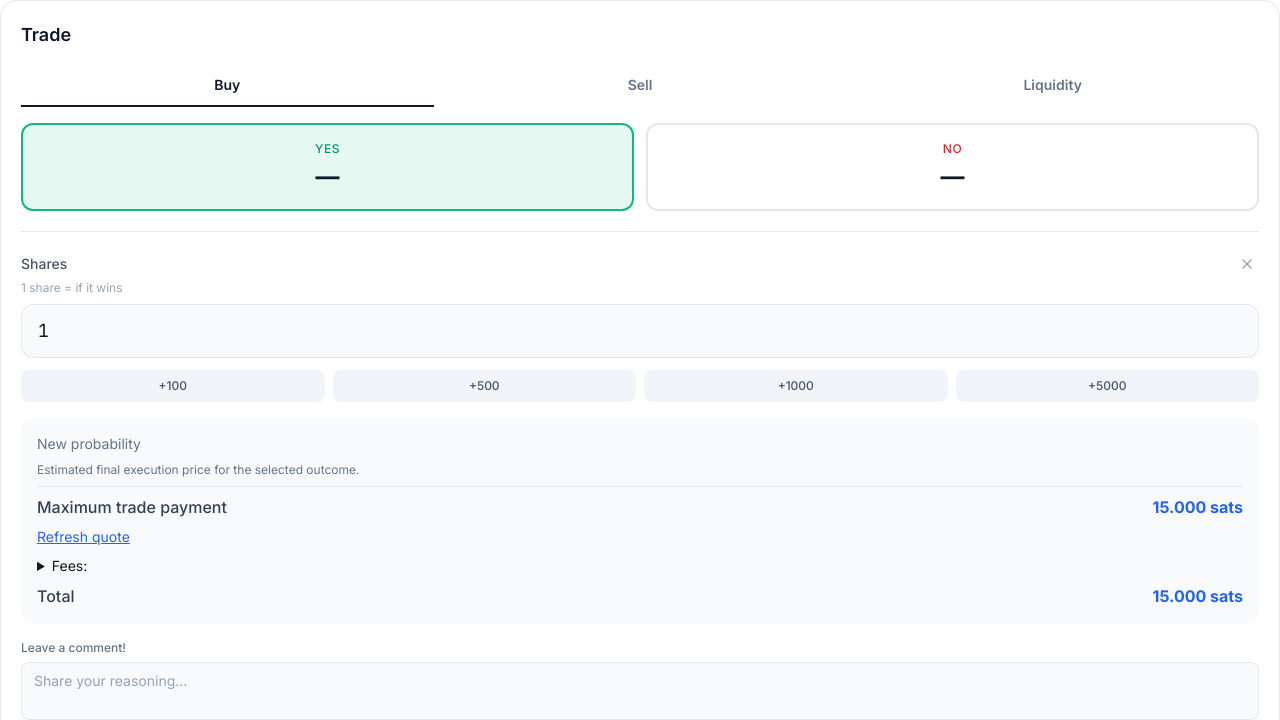
Test case: TradingPanel › keeps the share input as an integer of at least one on blur
This screenshot has width=1280, height=720.
In the number field with test id "trade-amount-input": (640, 331) [21,304,1259,358], type "50.8"
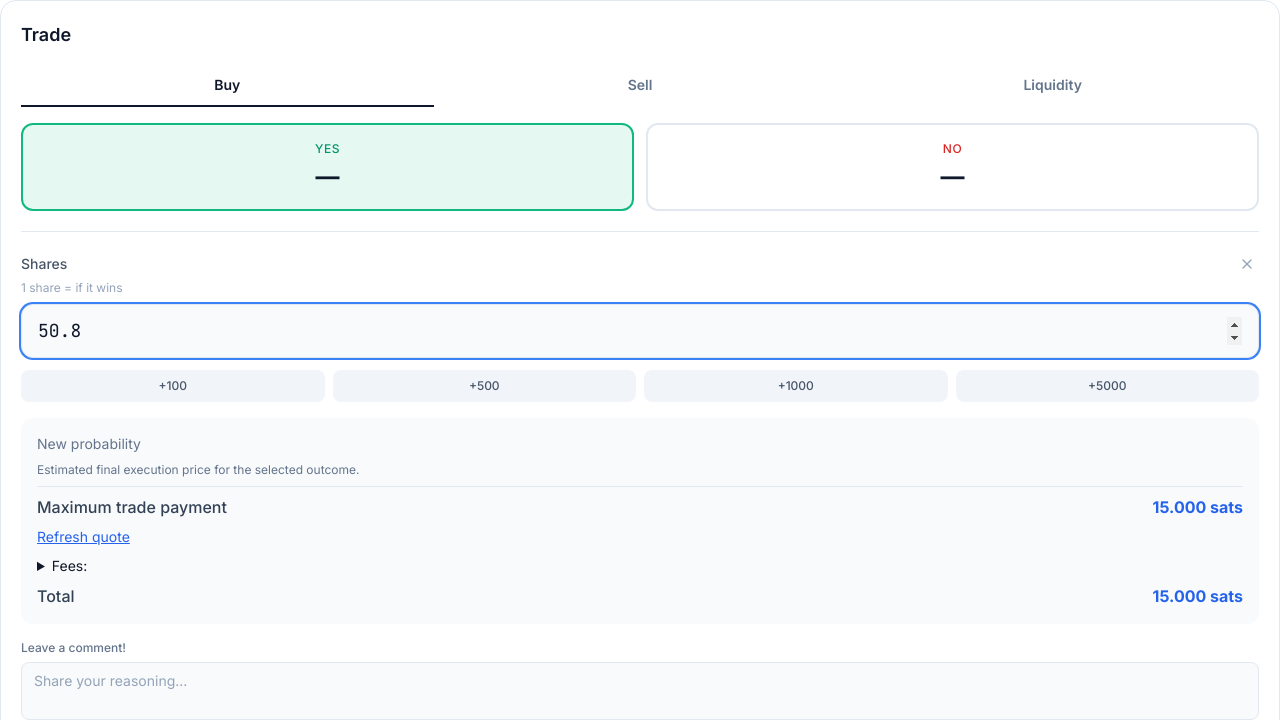
Leave the number field with test id "trade-amount-input", box [21,304,1259,358]
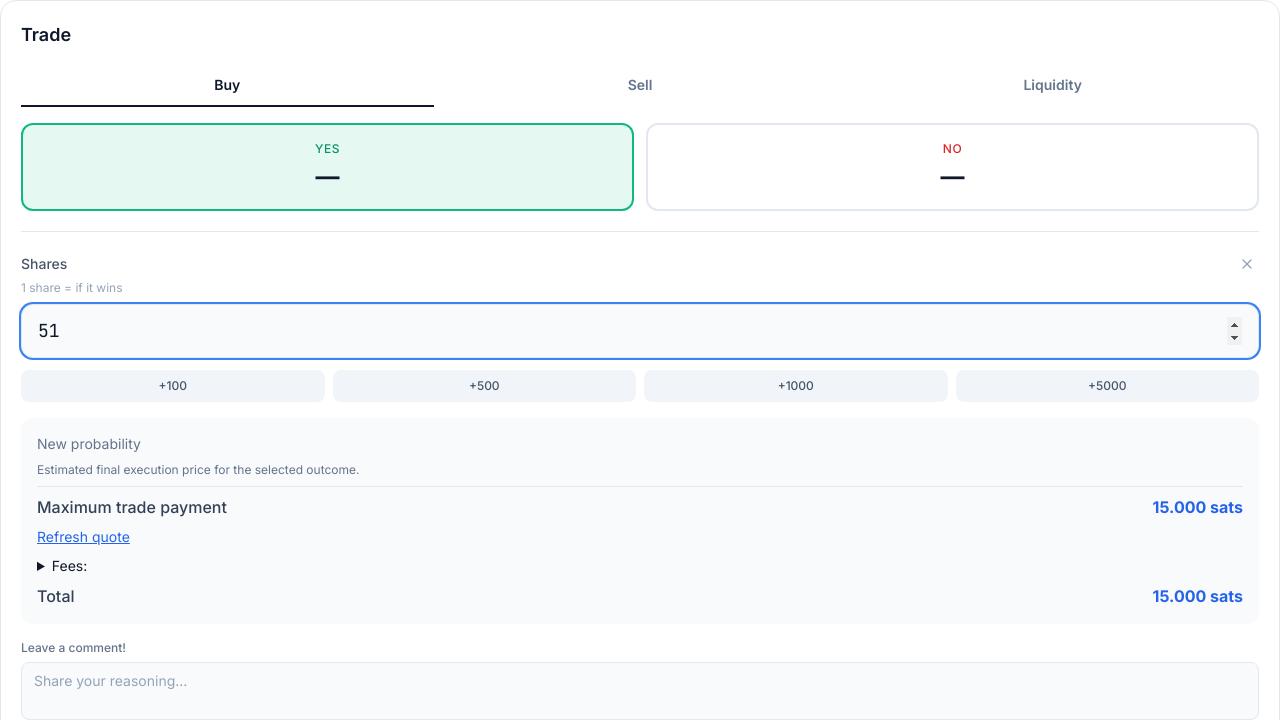
Now the number field with test id "trade-amount-input" holds "51", box [21,304,1259,358]
